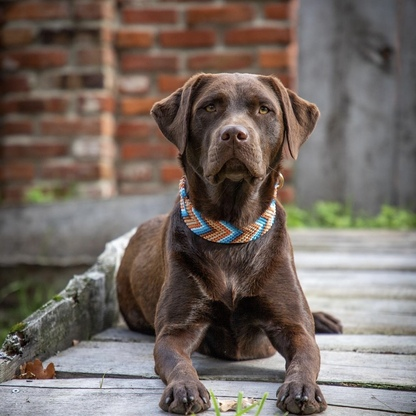labrado: (118, 69, 347, 416)
